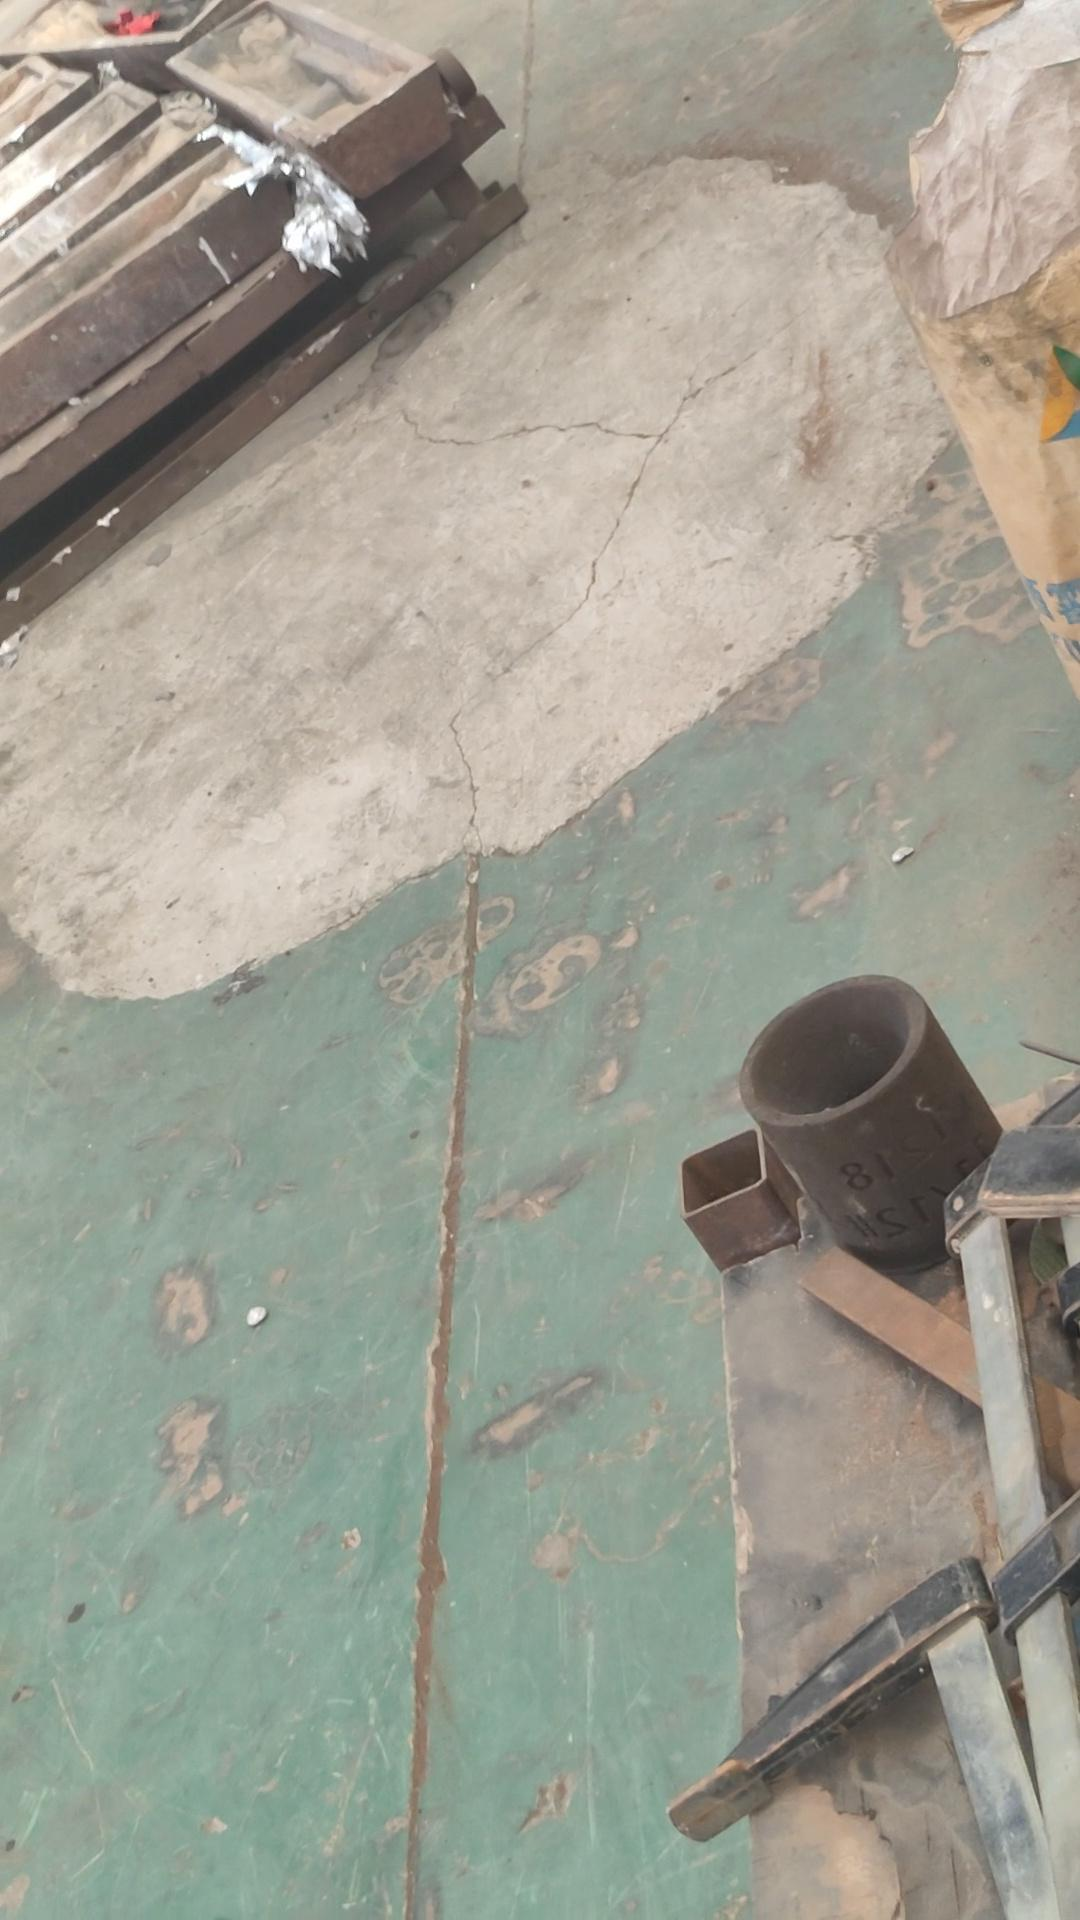pouring hole: (748, 985, 911, 1116)
